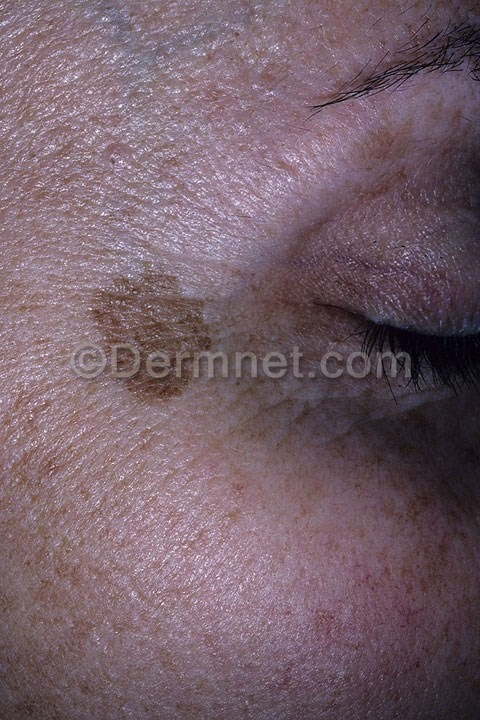Melasma: (310, 135, 457, 295), (355, 422, 471, 623), (75, 262, 219, 344), (127, 383, 203, 416)
